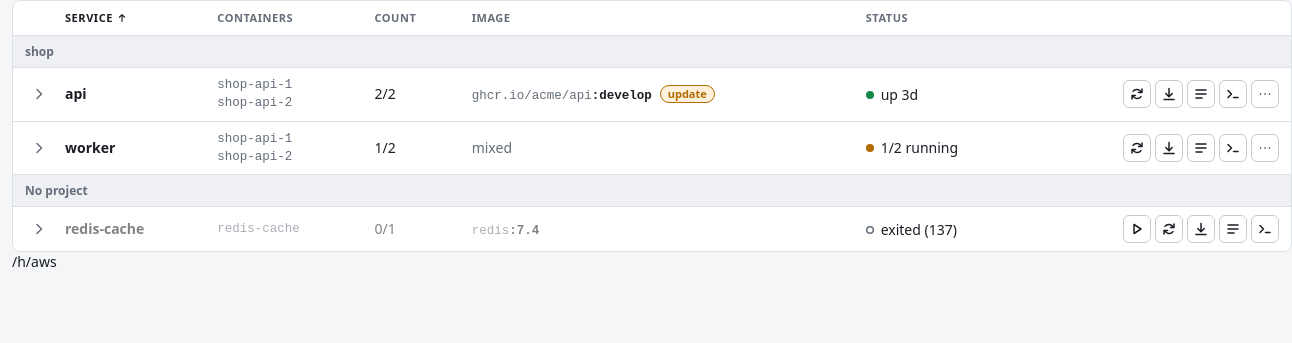
Test: the log under a row › a service with one container does not repeat its name on every line
Click the button named "Show logs of redis-cache" at (39, 229), box [25,215,53,243]
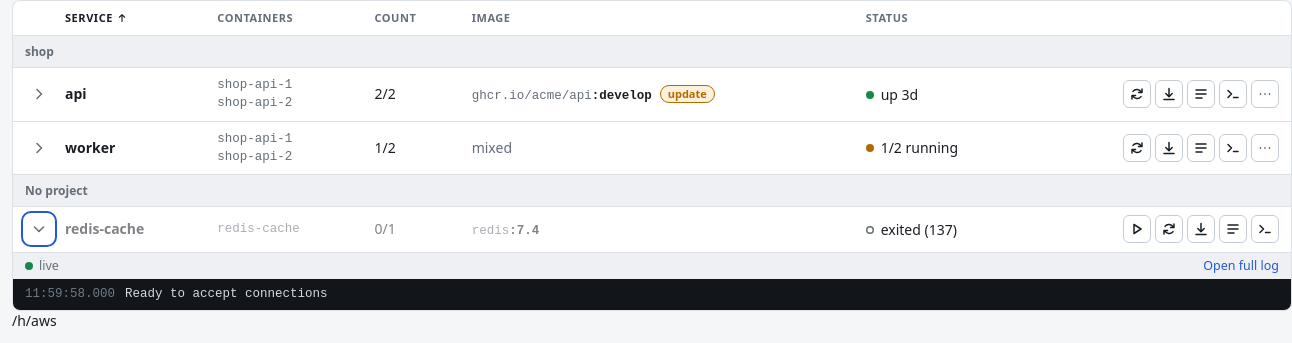
Expected: the text "Ready to accept connections" is shown, [125,287,328,301]
